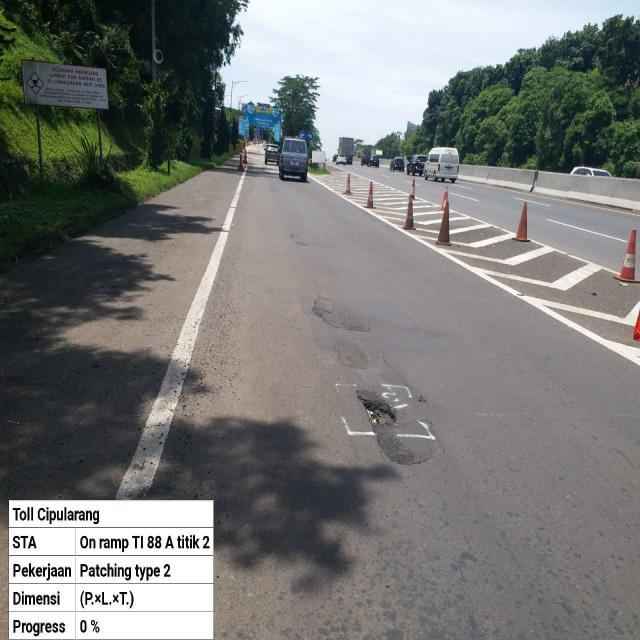Buraco: (355, 394, 403, 428), (588, 290, 601, 298)
